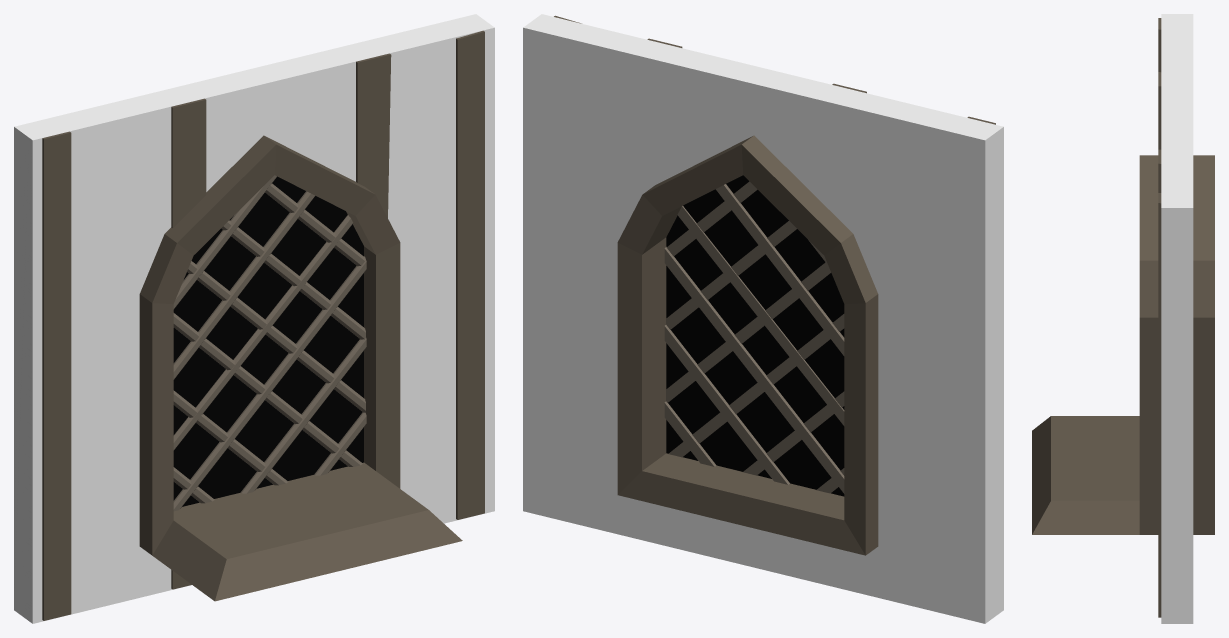
Rendered from ROOF_triangle_window_grid_1.fbx.
3 renders of one model, left to right at view 1: azimuth 30°, elevation 25°; view 2: azimuth 150°, elevation 25°; view 3: azimuth 270°, elevation 25°, orthographic. The views are drawn at different scales.
Parts seen in each view (by area): view 1: ROOF_triangle_window_grid_1; view 2: ROOF_triangle_window_grid_1; view 3: ROOF_triangle_window_grid_1.
Part boxes in pixels (x1,y1,x2,y2): ROOF_triangle_window_grid_1: (14,14,494,623); ROOF_triangle_window_grid_1: (523,14,1003,623); ROOF_triangle_window_grid_1: (1032,14,1214,623).
Bounding box in the file's own units: 100 × 100 × 39.84.
